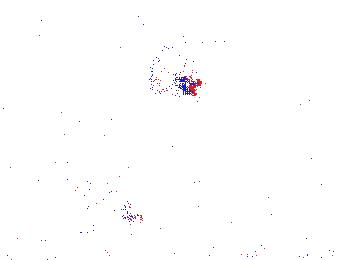flame jellyfish: (217, 167, 291, 224), (73, 166, 144, 225), (146, 50, 201, 99)
